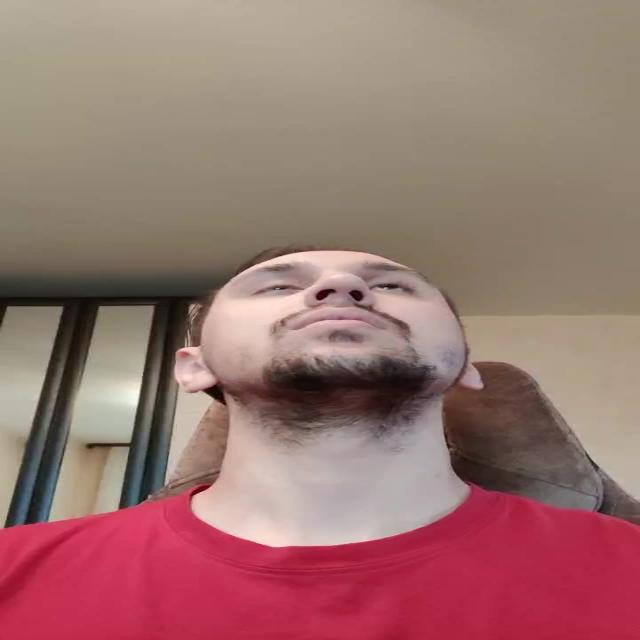earlobe: (174, 346, 215, 394)
